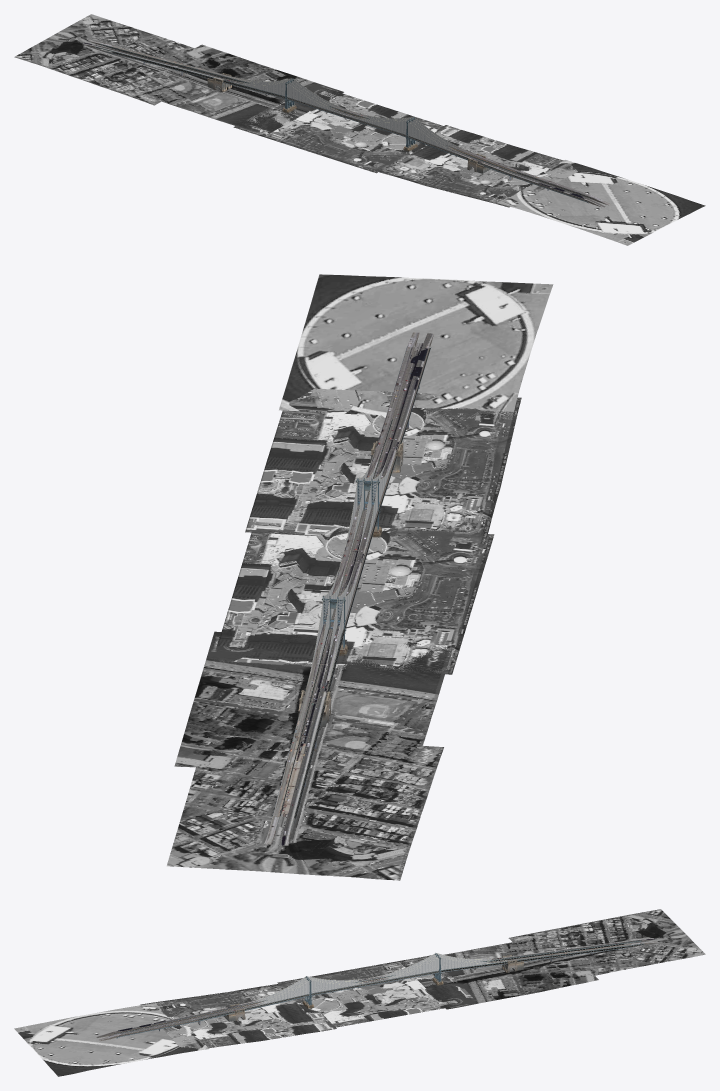
Rendered from Manhattan-Bridge.fbx.
The picture shows the model from 3 angles, top to bottom: view 1: azimuth 30°, elevation 25°; view 2: azimuth 150°, elevation 25°; view 3: azimuth 270°, elevation 25°; orthographic projection. The views are drawn at different scales.
Parts seen in each view (by area): view 1: Google_Earth_Terrain4, Google_Earth_Terrain2, Google_Earth_Terrain1, Google_Earth_Terrain, Google_Earth_Terrain3, Model, Group_33_4; view 2: Google_Earth_Terrain1, Google_Earth_Terrain2, Google_Earth_Terrain, Google_Earth_Terrain4, Google_Earth_Terrain3, Model; view 3: Google_Earth_Terrain2, Google_Earth_Terrain4, Google_Earth_Terrain1, Google_Earth_Terrain, Google_Earth_Terrain3, Model, Group_33_1, Group_28_1, Group_32_2.
Part boxes in pixels (left/top/right/bottom): Google_Earth_Terrain4: left=14, top=14, right=229, bottom=105; Google_Earth_Terrain2: left=489, top=160, right=705, bottom=245; Google_Earth_Terrain1: left=368, top=125, right=577, bottom=207; Google_Earth_Terrain: left=233, top=87, right=443, bottom=173; Google_Earth_Terrain3: left=124, top=44, right=343, bottom=133; Model: left=82, top=39, right=610, bottom=207; Group_33_4: left=287, top=83, right=406, bottom=134; Google_Earth_Terrain1: left=245, top=388, right=521, bottom=544; Google_Earth_Terrain2: left=279, top=274, right=553, bottom=419; Google_Earth_Terrain: left=217, top=523, right=494, bottom=674; Google_Earth_Terrain4: left=167, top=733, right=443, bottom=880; Google_Earth_Terrain3: left=174, top=631, right=453, bottom=780; Model: left=264, top=332, right=433, bottom=845; Google_Earth_Terrain2: left=14, top=1002, right=208, bottom=1076; Google_Earth_Terrain4: left=508, top=909, right=705, bottom=982; Google_Earth_Terrain1: left=140, top=982, right=336, bottom=1048; Google_Earth_Terrain: left=277, top=955, right=473, bottom=1027; Google_Earth_Terrain3: left=400, top=934, right=598, bottom=1009; Model: left=96, top=938, right=658, bottom=1040; Group_33_1: left=311, top=957, right=439, bottom=993; Group_28_1: left=440, top=957, right=507, bottom=978; Group_32_2: left=252, top=981, right=309, bottom=1006.
Bounding box in the file's own units: 49215 × 4391 × 86269.
